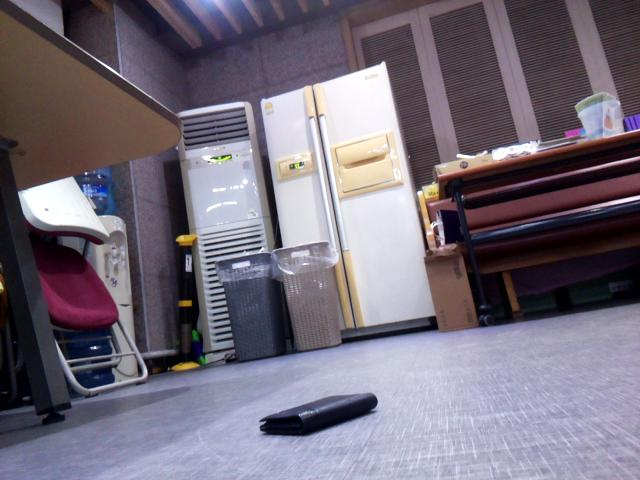wallet: (253, 391, 387, 440)
